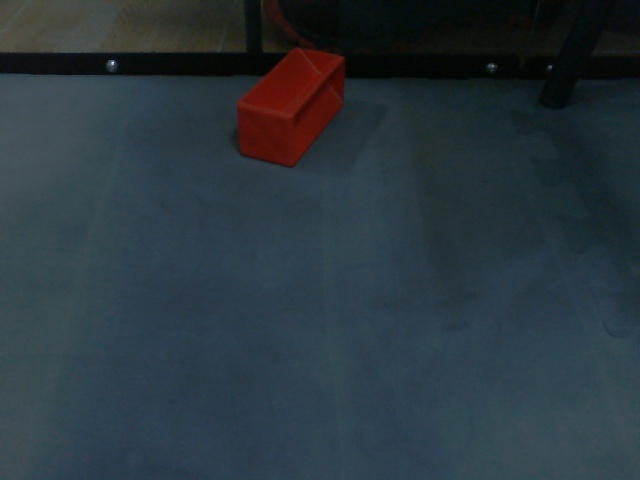RedSample: (233, 46, 348, 170)
